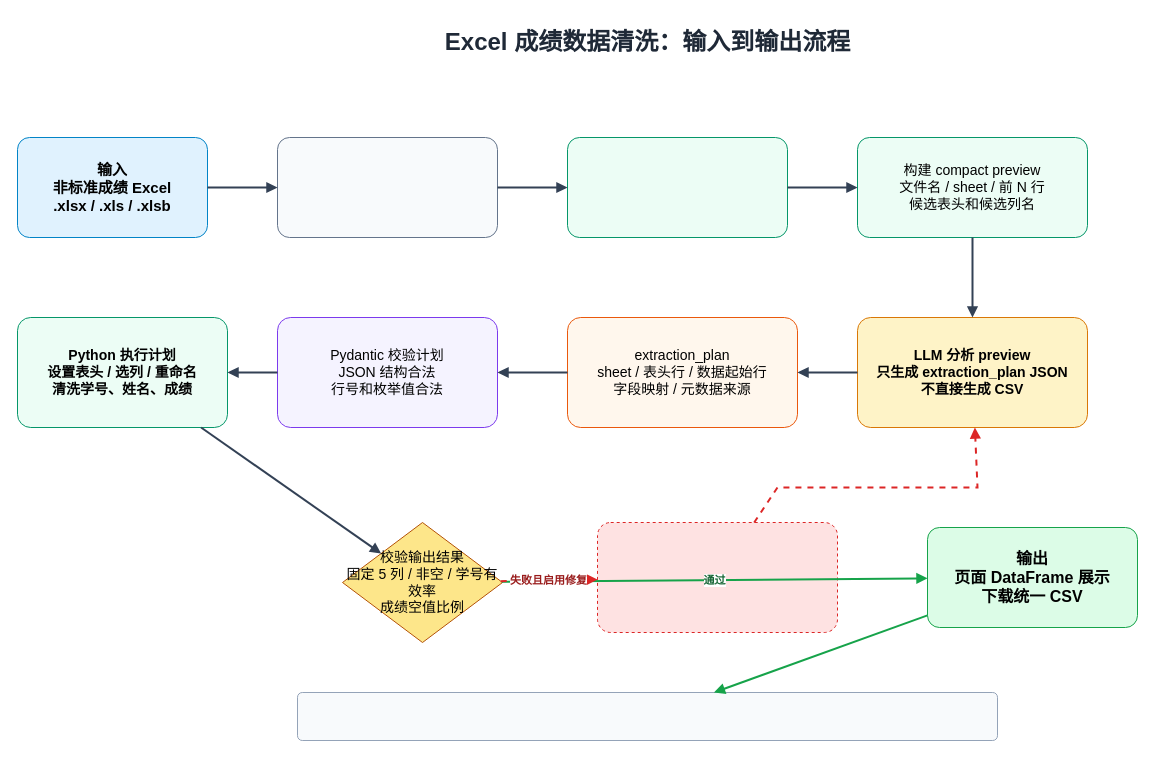
Some shapes in this 1155 by 758 pixel diagram are drawn without their labels. The shapes that lost their labels are listed below. From the top down, each one's box as (x1, y1, x2, y2) in pixels, then its label:
(276, 136, 498, 238): Streamlit 页面 上传文件 + 填写 LLM 配置 base_url / api_key / model
(566, 136, 788, 238): Python 读取 Workbook 按 sheet 读取原始单元格 支持 fallback engine
(596, 522, 838, 632): 失败时二次修复 错误 + 可用列 + 样例数据 反馈给 LLM 重新生成计划
(296, 692, 998, 740): 最终固定列：学号、学生姓名、课程名、班级名、最终成绩
